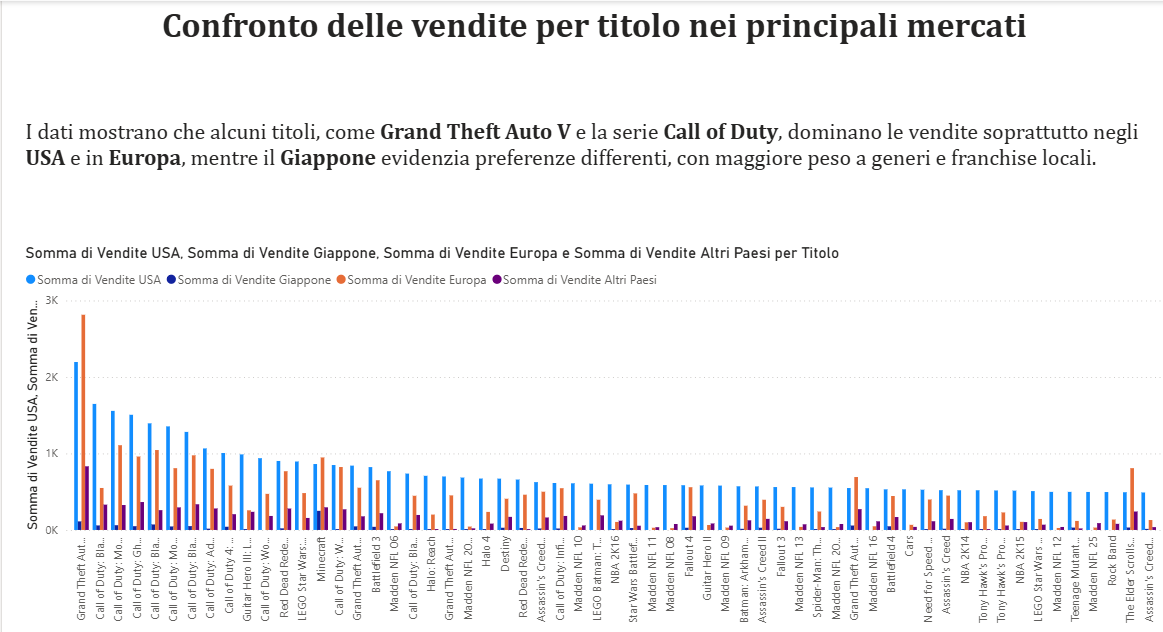

The page's visual inventory and layout, read from the dashboard file:
{"tool":"powerbi","page":{"name":"mercati principali ","canvas":[1280,720],"ordinal":4},"visuals":[{"type":"clusteredColumnChart","fields":{"Category":["vgchartz-2024.Titolo"],"Y":["Sum(vgchartz-2024.Vendite USA)","Sum(vgchartz-2024.Vendite Giappone)","Sum(vgchartz-2024.Vendite Europa)","Sum(vgchartz-2024.Vendite Altri Paesi)"]},"box":[20.6,266.2,1259.7,454.2],"z":0},{"type":"textbox","box":[20.6,0,1259.7,59],"z":1000},{"type":"textbox","box":[20.6,123.5,1259.7,108.4],"z":2000}]}

Visuals, with their boxes on the page's 1280x720 design canvas (x1, y1, x2, y2). These are canvas units, not pixel positions in the 1163x632 screenshot, which may show the page scaled, cropped or inside an application window:
clusteredColumnChart - vgchartz-2024.Titolo x Sum(vgchartz-2024.Vendite USA): x1=21 y1=266 x2=1280 y2=720
textbox: x1=21 y1=0 x2=1280 y2=59
textbox: x1=21 y1=124 x2=1280 y2=232
